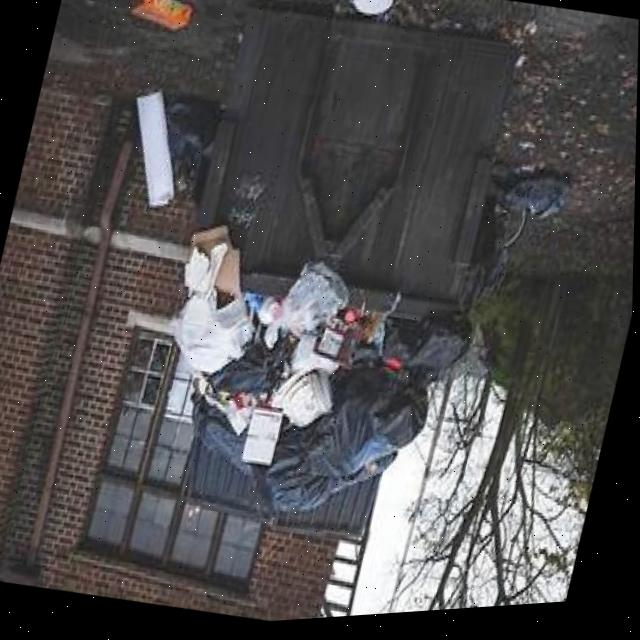Garbage: (175, 180, 568, 513), (136, 93, 218, 207), (129, 0, 193, 32), (350, 0, 393, 19)
Plastic: (136, 93, 174, 208), (343, 313, 358, 328)
Plastic_Bag: (265, 370, 428, 515), (383, 321, 471, 392), (209, 338, 298, 398), (165, 99, 218, 198), (282, 265, 349, 339)
Plastic_bottle: (245, 295, 284, 329)
Thermocol: (175, 293, 253, 375), (184, 244, 229, 297)
